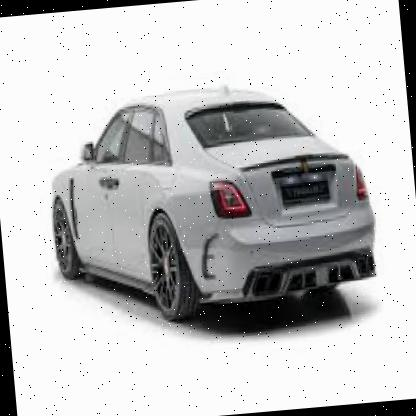car: (35, 66, 396, 346)
